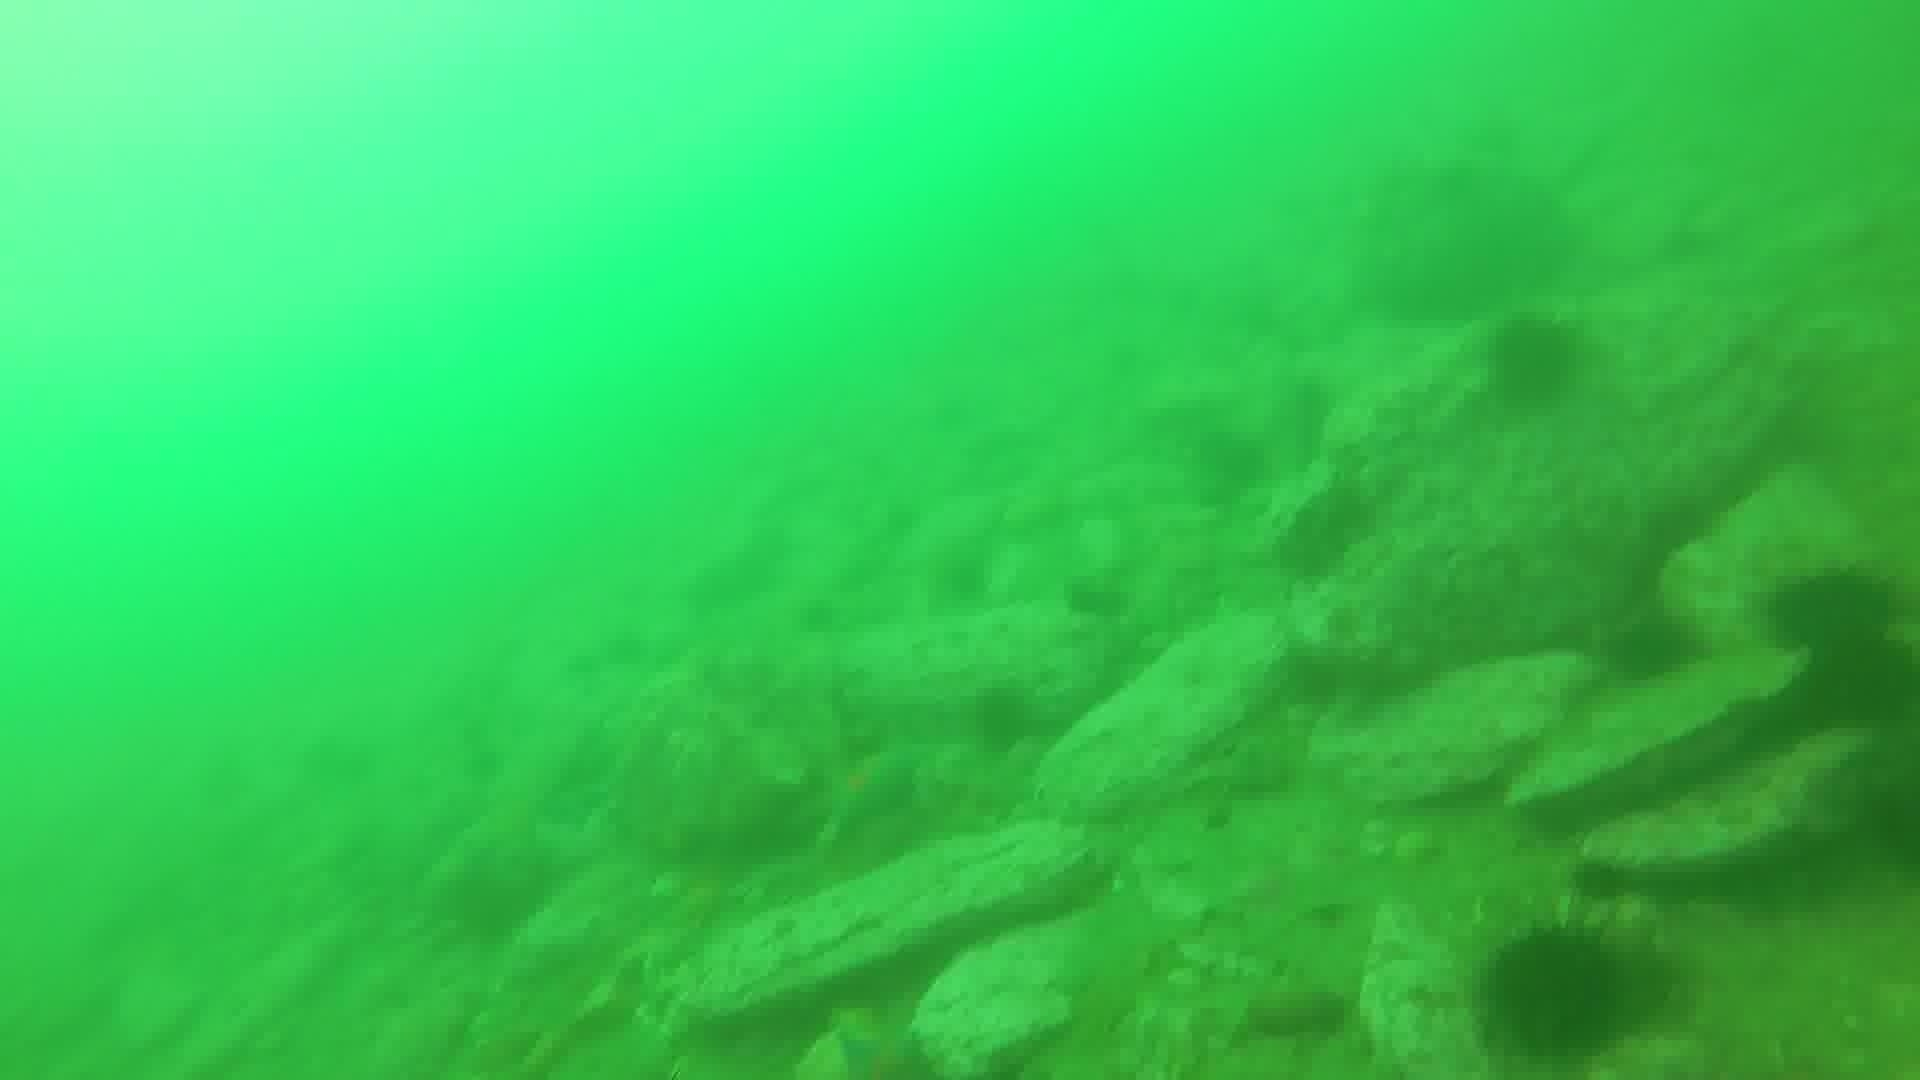echinus: (1476, 916, 1639, 1065), (1760, 560, 1903, 659), (1269, 476, 1377, 585), (1807, 625, 1917, 731), (1481, 310, 1586, 411), (1601, 607, 1702, 688), (964, 679, 1040, 757), (1565, 851, 1636, 909)
starfish: (808, 737, 924, 844), (795, 1001, 928, 1077)
